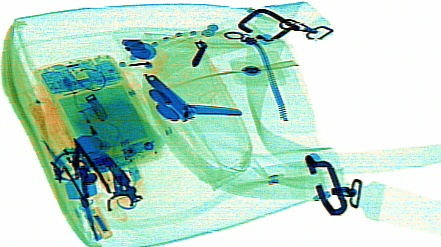lighter: (71, 90, 119, 154)
